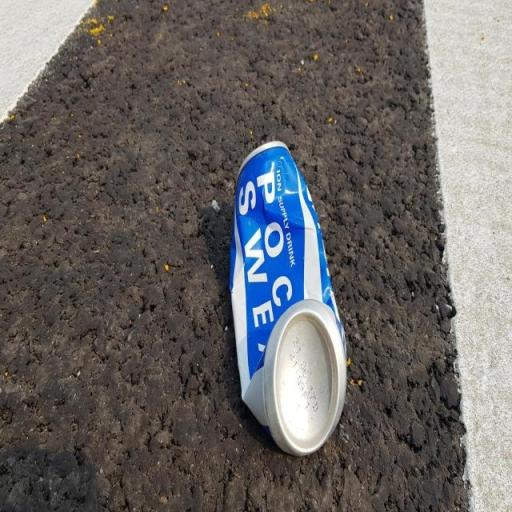metal: (215, 115, 354, 463)
